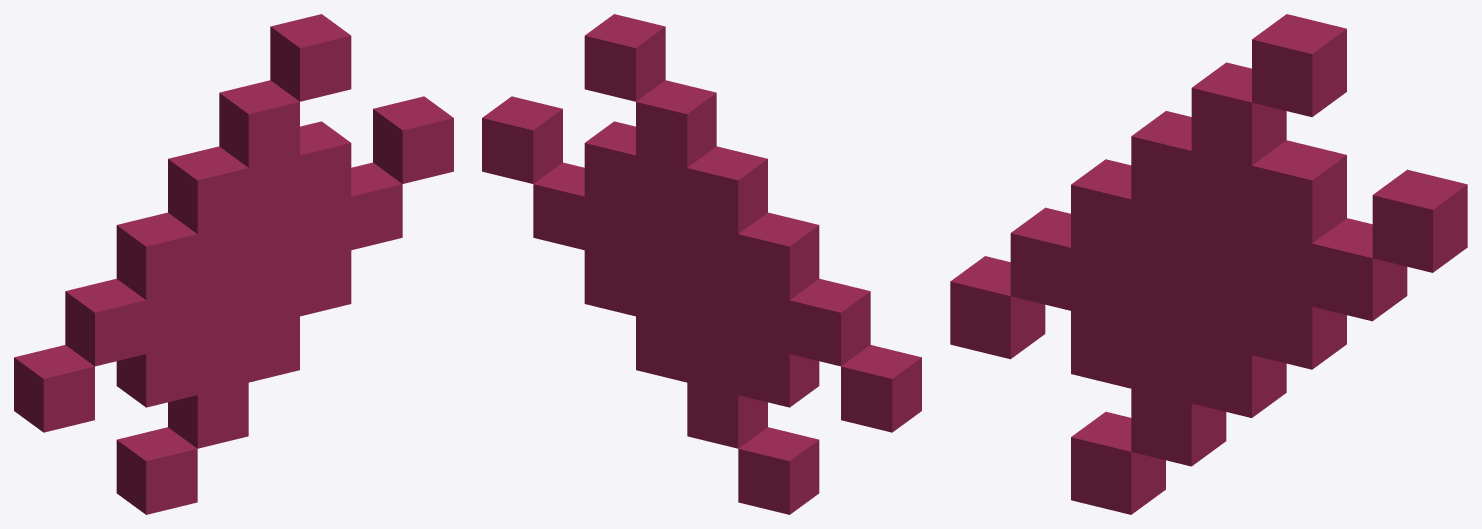
Rendered from Scroll-Purple.vox.obj.
3 views of the same model, side by side, from view 1: azimuth 30°, elevation 25°; view 2: azimuth 150°, elevation 25°; view 3: azimuth 330°, elevation 25° (orthographic). The views are drawn at different scales.
Size of the model in its own units: 0.8 by 0.8 by 0.1.
1 material, 1 textured.
